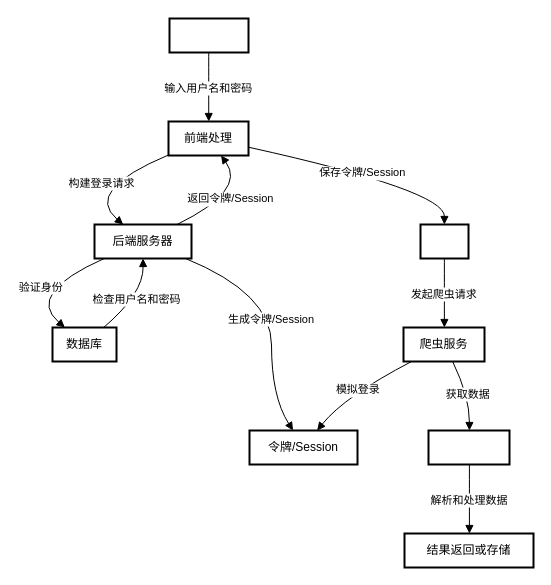
The diagram is 551 pixels wide and 585 high, and some of its shapes have lost their labels. Each missing label, with the centre of its shape:
"前端" belongs at pixel 444 241.
"数据处理" belongs at pixel 468 447.
"用户界面" belongs at pixel 208 35.
